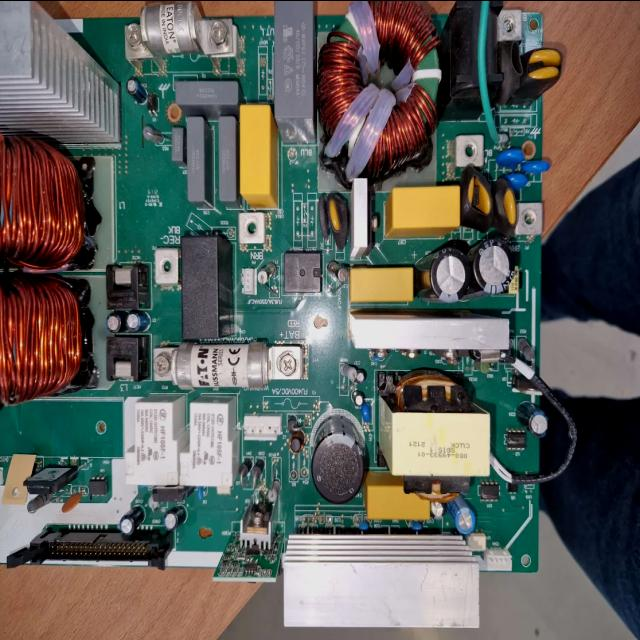A: (320, 0, 442, 189), (0, 133, 94, 269), (0, 271, 93, 408)
B: (126, 1, 244, 71), (153, 342, 310, 388)
C: (311, 413, 365, 502), (470, 234, 520, 298), (417, 245, 470, 303)
